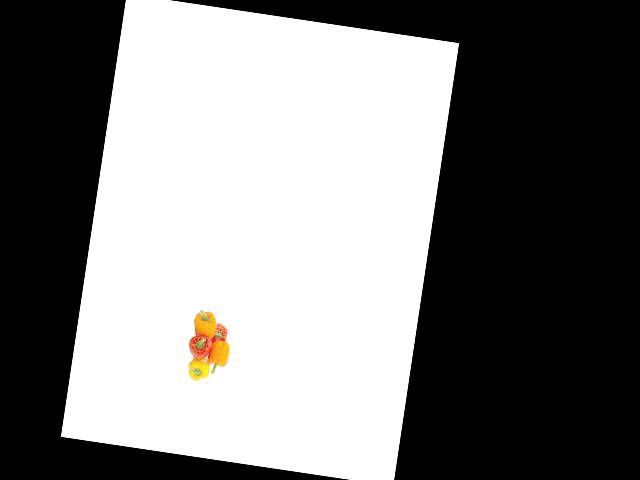bell_pepper: (189, 303, 221, 341)
